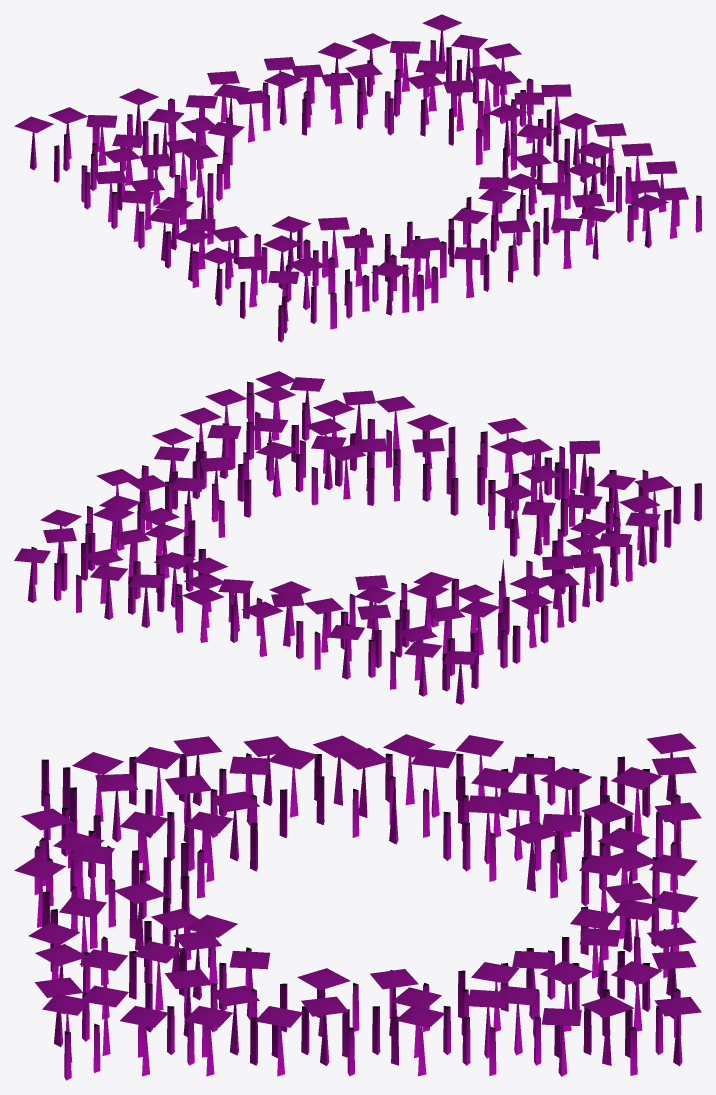
The model's file is env-lv-2-sunflower-inside.fbx.
3 views of the same model, one above another, from view 1: azimuth 30°, elevation 25°; view 2: azimuth 150°, elevation 25°; view 3: azimuth 270°, elevation 25° (orthographic). The views are drawn at different scales.
Visible parts, largest first — view 1: Env_Lv_2_Sunflower_inside; view 2: Env_Lv_2_Sunflower_inside; view 3: Env_Lv_2_Sunflower_inside.
Part boxes in pixels (<box>): Env_Lv_2_Sunflower_inside: <box>14,14,701,342</box>; Env_Lv_2_Sunflower_inside: <box>14,371,701,704</box>; Env_Lv_2_Sunflower_inside: <box>14,733,701,1080</box>.
Bounding box in the file's own units: 3034 × 307 × 2994.
